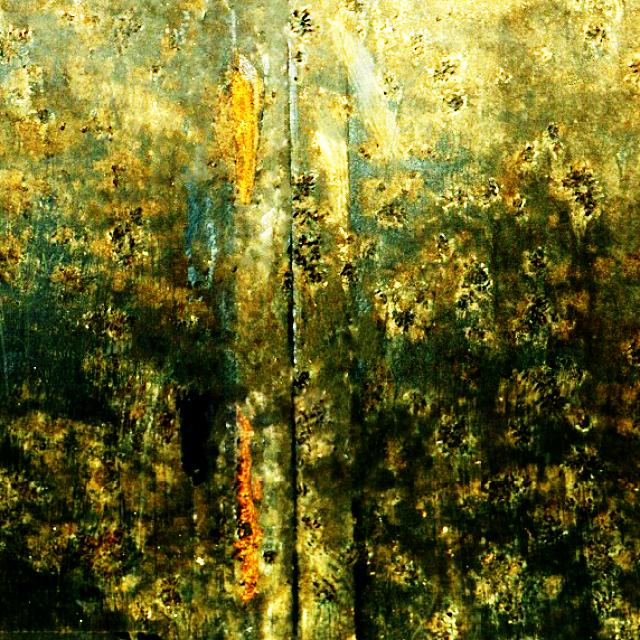Corrosion: (232, 405, 263, 600), (231, 69, 261, 203), (253, 476, 264, 501)
